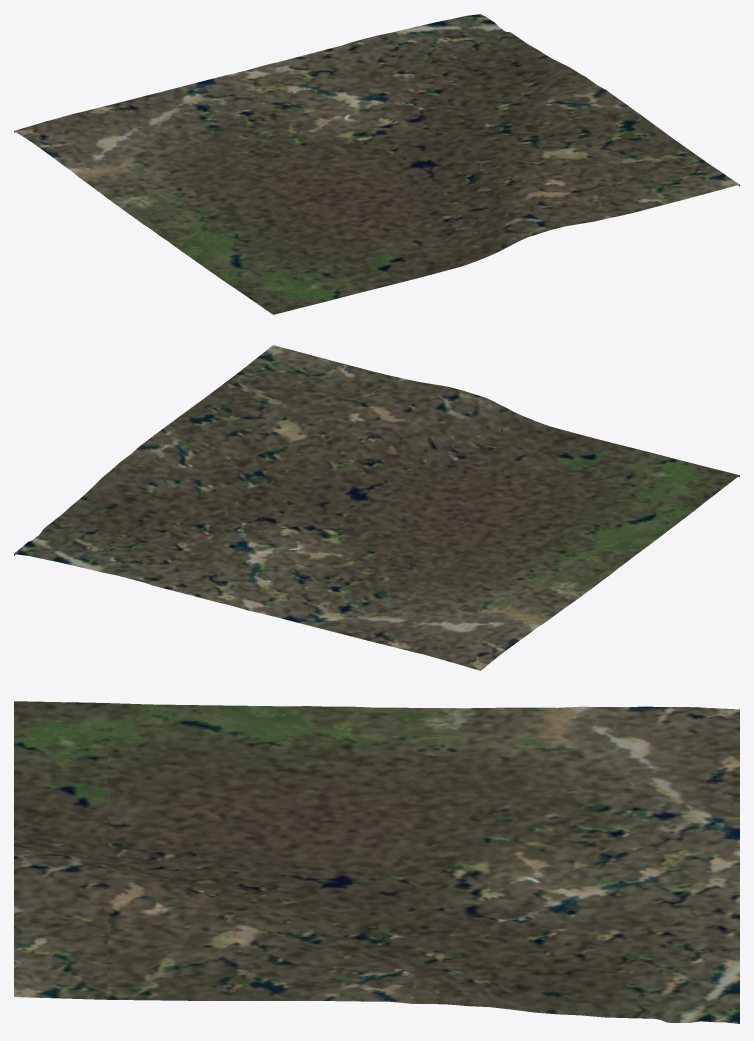
The picture shows the model from 3 angles, top to bottom: view 1: azimuth 30°, elevation 25°; view 2: azimuth 150°, elevation 25°; view 3: azimuth 270°, elevation 25°; orthographic projection. The views are drawn at different scales.
Size of the model in its own units: 250 by 12.9 by 241.
1 material, 1 textured.
